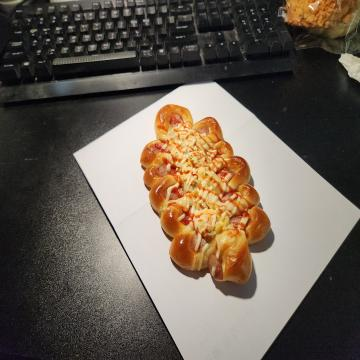pizza_bread: (139, 104, 273, 288)
